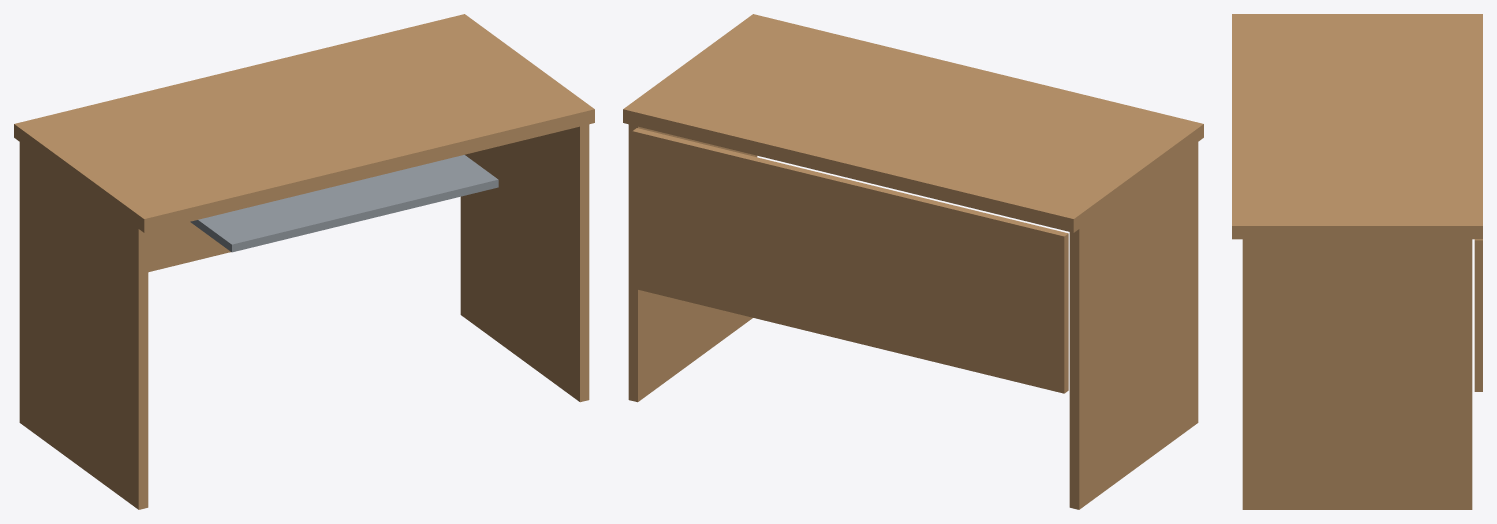
The model's file is computertable.glb.
3 renders of one model, left to right at view 1: azimuth 30°, elevation 25°; view 2: azimuth 150°, elevation 25°; view 3: azimuth 270°, elevation 25°, orthographic. The views are drawn at different scales.
Visible parts, largest first — view 1: material-1-body, material-0-top, material-2-metal; view 2: material-1-body, material-0-top; view 3: material-1-body, material-0-top.
Boxes of the visible parts, x1,y1,x2,y2 form: material-1-body: [19, 124, 589, 509]; material-0-top: [14, 14, 594, 232]; material-2-metal: [190, 155, 498, 252]; material-1-body: [628, 124, 1198, 509]; material-0-top: [623, 14, 1203, 232]; material-1-body: [1242, 239, 1482, 509]; material-0-top: [1232, 14, 1482, 239].
Size of the model in its own units: 1.2 by 0.75 by 0.6.
